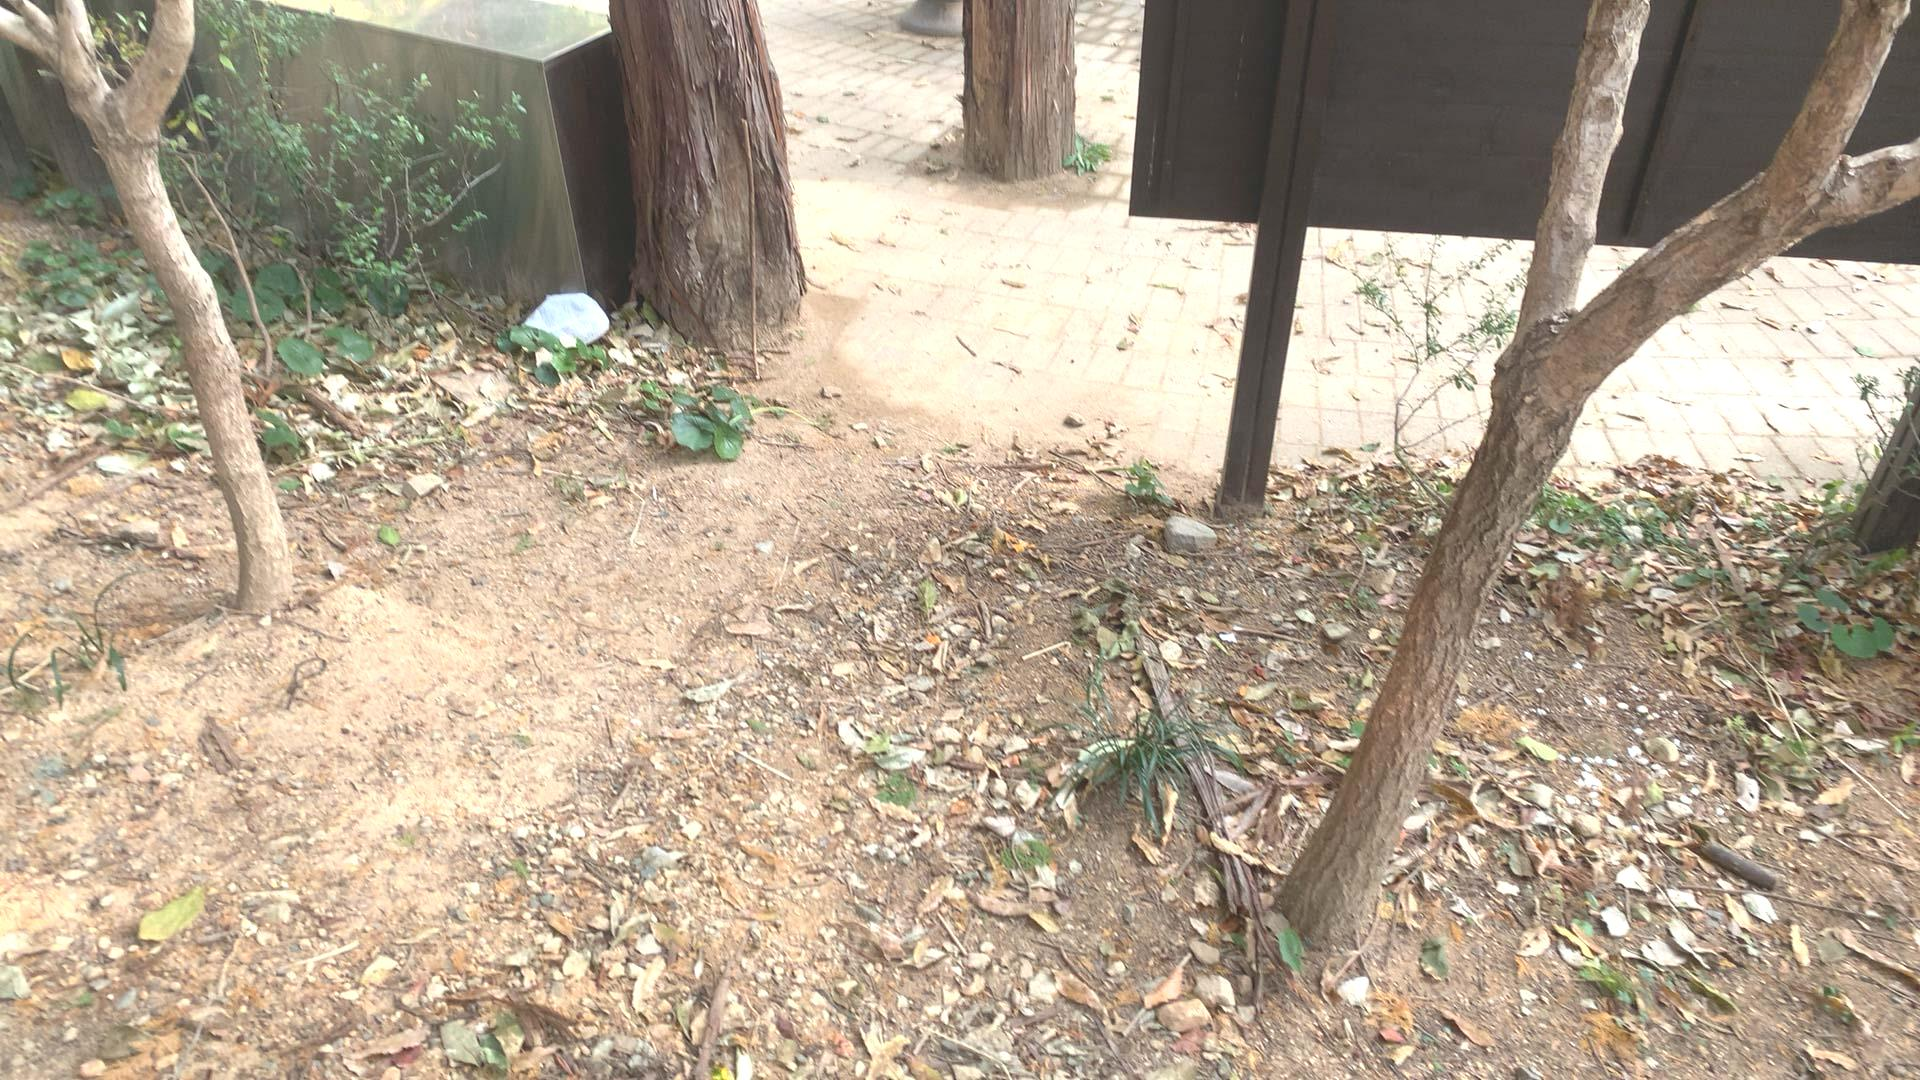white_bag: (502, 285, 615, 356)
